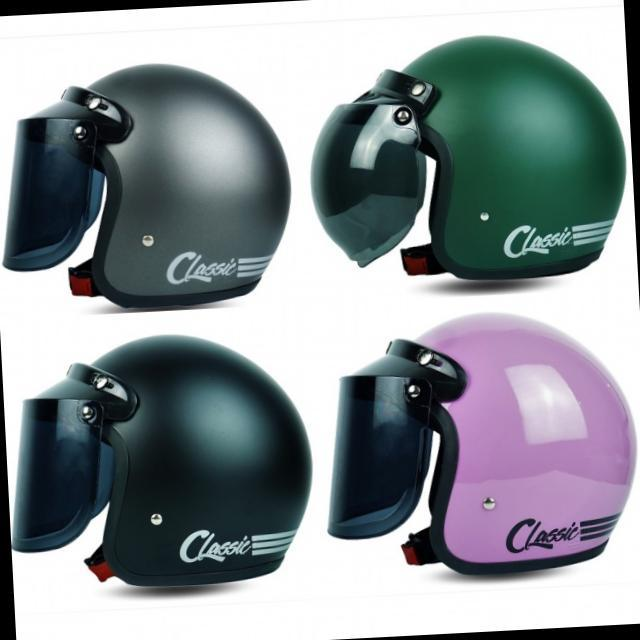Helm: (313, 298, 640, 587), (302, 24, 635, 294), (0, 324, 316, 598), (0, 52, 298, 325)
